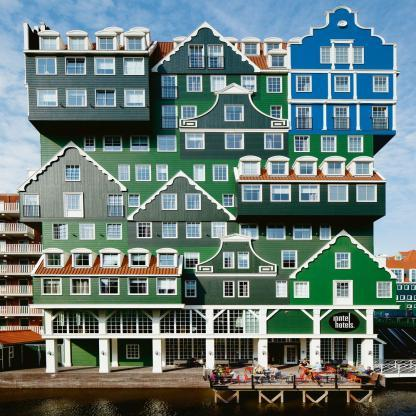Building Outline: (16, 6, 401, 373)
Cornice: (213, 82, 254, 95), (179, 128, 289, 132), (218, 233, 254, 240), (66, 30, 88, 36), (94, 30, 116, 36), (104, 26, 124, 32), (37, 30, 59, 35), (240, 156, 262, 161), (268, 156, 290, 161), (296, 156, 318, 161), (325, 156, 347, 161), (42, 248, 64, 253), (70, 248, 92, 253), (99, 248, 121, 253), (127, 248, 149, 253), (353, 156, 374, 161), (156, 248, 177, 253), (329, 39, 355, 43), (130, 27, 150, 32), (173, 36, 192, 41), (289, 37, 308, 42), (219, 37, 238, 42), (241, 37, 260, 42), (264, 37, 283, 42), (268, 49, 287, 54), (123, 31, 145, 35)
Deco: (337, 20, 348, 28)
Door: (285, 345, 298, 364)
Facade: (16, 6, 402, 373)
Floor Slab: (28, 304, 401, 309), (40, 334, 379, 339), (287, 99, 398, 103), (288, 69, 397, 73)
Pillar: (361, 338, 374, 373), (46, 339, 58, 373), (99, 338, 111, 372), (152, 338, 162, 372), (206, 338, 215, 372), (258, 338, 267, 372), (346, 338, 354, 369)
Roof: (34, 256, 180, 274), (240, 168, 383, 180), (146, 42, 174, 69), (246, 43, 270, 69), (282, 43, 288, 50), (91, 42, 96, 50), (238, 42, 241, 52), (63, 45, 67, 50), (119, 46, 124, 50)
Shop: (165, 339, 253, 366), (307, 338, 347, 364), (358, 345, 379, 368)
Window: (160, 310, 206, 334), (53, 310, 99, 333), (107, 310, 153, 333), (214, 310, 260, 333), (161, 75, 177, 98), (162, 106, 177, 130), (189, 45, 204, 68), (208, 46, 223, 69), (125, 90, 145, 106), (95, 58, 115, 74), (125, 58, 145, 74), (66, 58, 86, 74), (37, 58, 57, 74), (37, 90, 57, 106), (66, 90, 86, 106), (96, 90, 116, 106), (297, 107, 311, 129), (373, 107, 387, 129), (225, 105, 243, 121), (243, 185, 261, 201), (300, 185, 318, 201), (329, 185, 347, 201), (100, 278, 118, 294), (335, 107, 348, 129), (109, 195, 122, 217), (272, 185, 289, 201), (158, 278, 175, 294), (129, 279, 147, 294), (187, 75, 202, 92), (211, 75, 226, 92), (241, 75, 256, 92), (265, 134, 282, 149), (158, 136, 175, 151), (358, 186, 375, 201), (294, 224, 311, 239), (43, 279, 60, 294), (72, 279, 89, 294), (25, 195, 37, 216), (267, 76, 282, 92), (182, 106, 197, 122), (241, 224, 257, 239), (186, 134, 203, 148), (104, 137, 121, 151), (131, 137, 148, 151), (136, 166, 151, 181), (374, 76, 388, 92), (226, 134, 242, 148), (349, 136, 363, 152), (163, 222, 177, 238), (268, 224, 284, 238), (283, 251, 296, 268), (297, 76, 311, 91), (335, 77, 349, 92), (295, 136, 309, 151), (322, 136, 336, 151), (335, 48, 349, 63), (162, 194, 176, 209), (294, 282, 308, 297), (336, 253, 350, 268), (336, 282, 350, 297), (187, 222, 200, 238), (213, 222, 226, 238), (67, 195, 81, 209), (66, 165, 79, 180), (81, 224, 94, 239), (108, 224, 121, 239), (138, 223, 151, 238), (128, 38, 142, 51), (187, 195, 200, 209), (54, 224, 66, 239), (186, 253, 198, 268), (378, 282, 390, 297), (42, 38, 56, 50), (71, 38, 85, 50), (99, 38, 113, 50), (271, 55, 285, 67), (215, 166, 227, 180), (243, 162, 257, 174), (328, 162, 342, 174), (356, 162, 370, 174), (47, 254, 61, 266), (75, 254, 89, 266), (103, 254, 117, 266), (276, 282, 287, 297), (157, 165, 167, 181), (272, 162, 285, 174), (300, 162, 313, 174), (127, 345, 139, 358), (160, 254, 174, 265), (353, 48, 363, 63), (195, 166, 205, 181), (120, 165, 129, 181), (239, 281, 248, 297), (271, 106, 282, 119), (132, 254, 145, 265), (133, 34, 146, 45), (108, 34, 121, 45), (321, 48, 331, 62), (85, 136, 94, 151), (321, 224, 330, 239), (224, 253, 233, 268), (239, 253, 248, 268), (225, 282, 234, 297), (223, 43, 235, 54), (267, 43, 279, 54), (268, 338, 300, 342), (186, 282, 195, 296), (177, 43, 189, 53), (245, 44, 257, 54), (223, 195, 233, 206), (130, 195, 138, 206)
